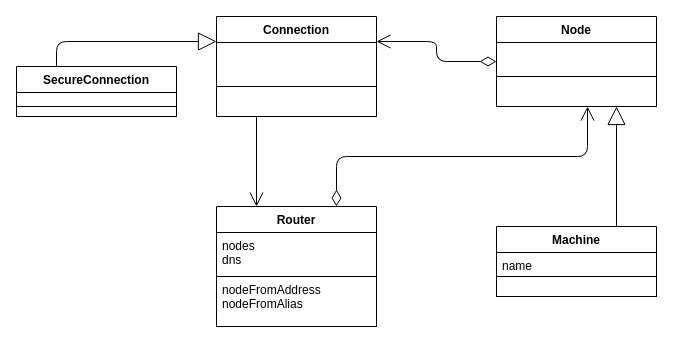
Image size: 673x343. Some labels were removed from this diagram. The centre of each missing label's shape, as x and y in pixels:
"addConnection" belongs at (576,91).
"connections" belongs at (576,59).
"router targetAddress" belongs at (296,64).
"target" belongs at (296,101).
